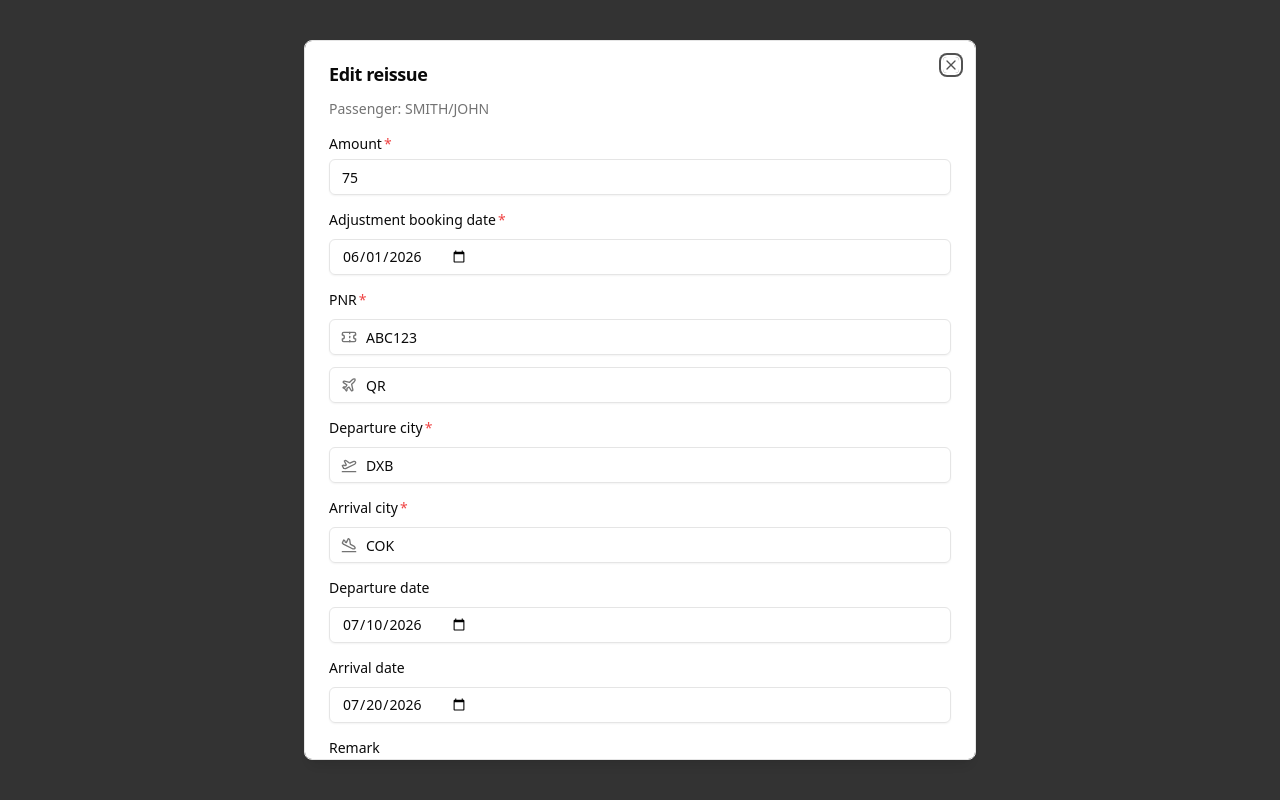
Test: EditAdjustmentDialog › keeps typed input across a background refetch of the same adjustment mid-edit
Replace the text in the field showing "ABC123" with "USERTYPED1". click: (640, 337)
box: [329,319,951,355]
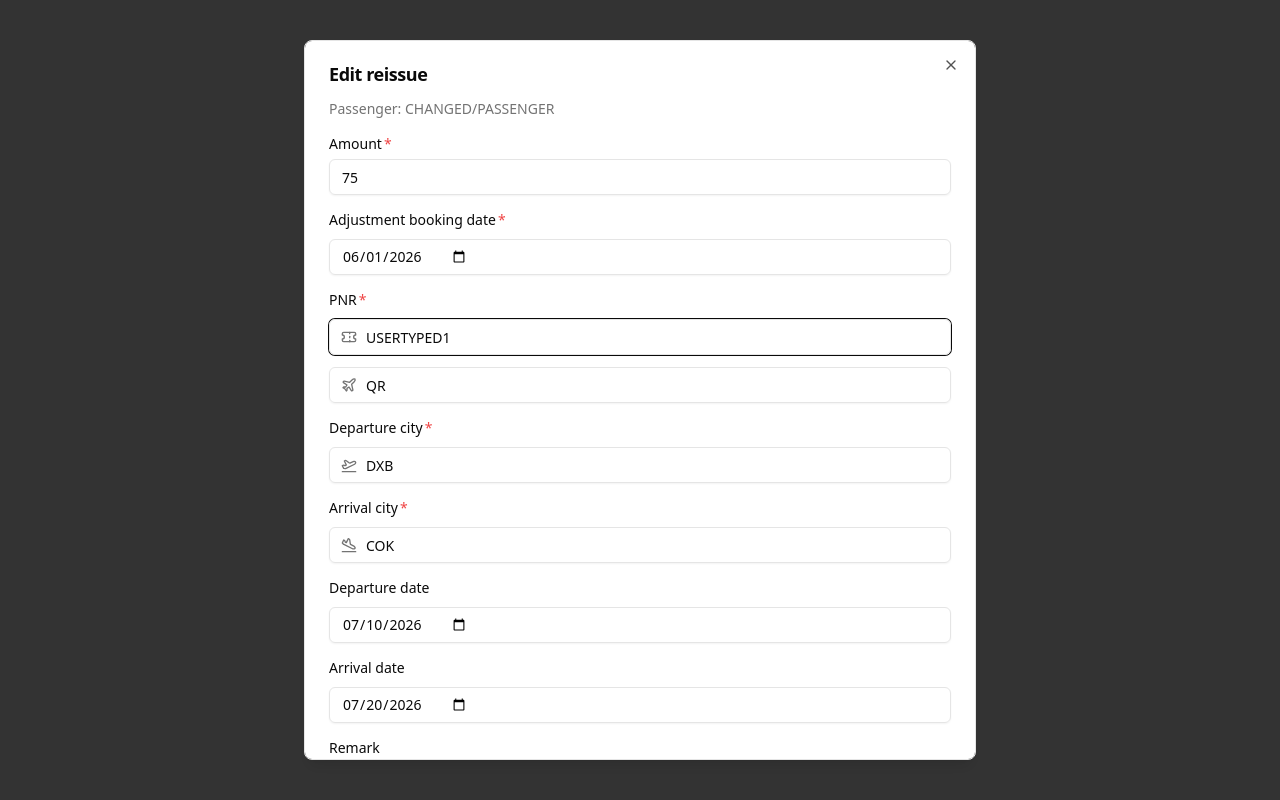
expect the number field showing "75" is shown: met, box [329,159,951,195]
expect the text "Passenger: CHANGED/PASSENGER" is shown: met, box [329,99,554,118]
